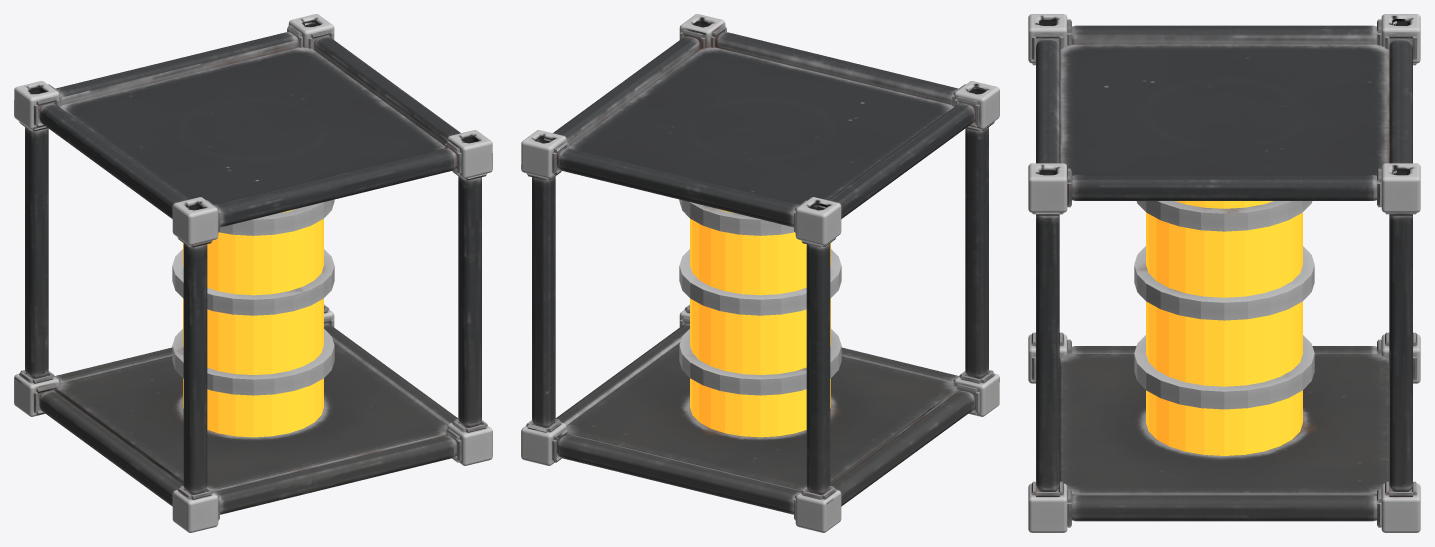
Rendered from SM_PartVehicleCore.glb.
3 renders of one model, left to right at view 1: azimuth 30°, elevation 25°; view 2: azimuth 150°, elevation 25°; view 3: azimuth 270°, elevation 25°, orthographic. The views are drawn at different scales.
Parts seen in each view (by area): view 1: SM_PartVehicleCore; view 2: SM_PartVehicleCore; view 3: SM_PartVehicleCore.
Boxes of the visible parts, left/top/right/bottom form: SM_PartVehicleCore: left=14, top=14, right=492, bottom=532; SM_PartVehicleCore: left=521, top=14, right=999, bottom=532; SM_PartVehicleCore: left=1028, top=14, right=1420, bottom=532.
Size of the model in its own units: 1 by 1 by 1.
5 materials, 4 textured.
